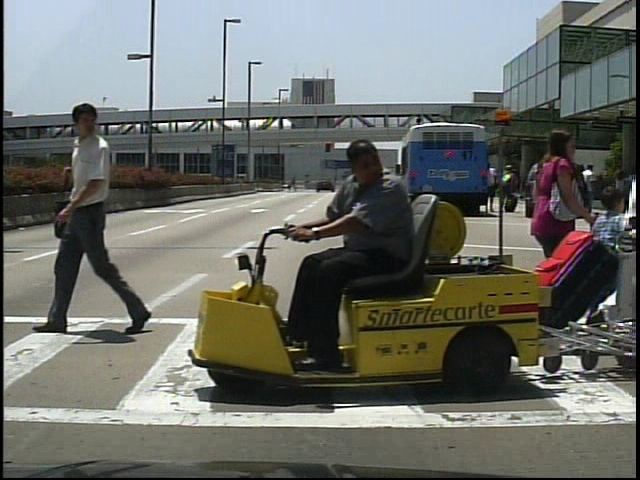person: (277, 134, 425, 373), (33, 99, 150, 333), (522, 122, 586, 354), (579, 180, 626, 326), (580, 162, 601, 217), (480, 162, 500, 217), (501, 164, 520, 218)
